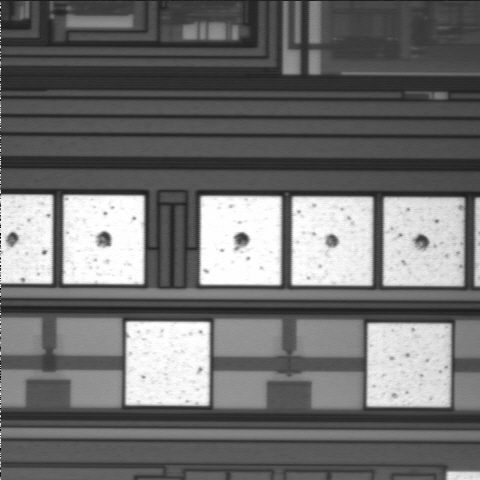pad: (63, 195, 144, 284), (200, 196, 281, 285), (292, 197, 373, 286), (383, 197, 464, 286), (125, 322, 210, 406), (367, 323, 451, 407)
